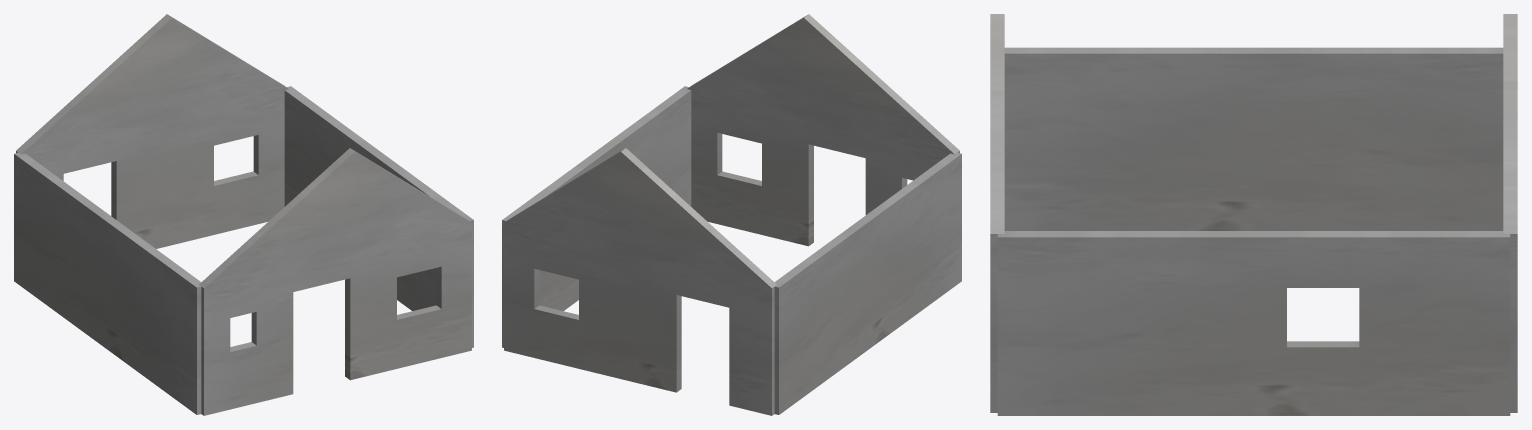
Rendered from BW_MillerCottage01_Plaster.fbx.
The picture shows the model from 3 angles, left to right: view 1: azimuth 30°, elevation 25°; view 2: azimuth 150°, elevation 25°; view 3: azimuth 270°, elevation 25°; orthographic projection. The views are drawn at different scales.
Parts seen in each view (by area): view 1: BW_MillerCottage01_Plaster; view 2: BW_MillerCottage01_Plaster; view 3: BW_MillerCottage01_Plaster.
Boxes of the visible parts, x1=… form: BW_MillerCottage01_Plaster: x1=14, y1=14, x2=473, y2=415; BW_MillerCottage01_Plaster: x1=502, y1=14, x2=961, y2=415; BW_MillerCottage01_Plaster: x1=990, y1=14, x2=1517, y2=415.
Bounding box in the file's own units: 6.82 × 5.35 × 8.02.
